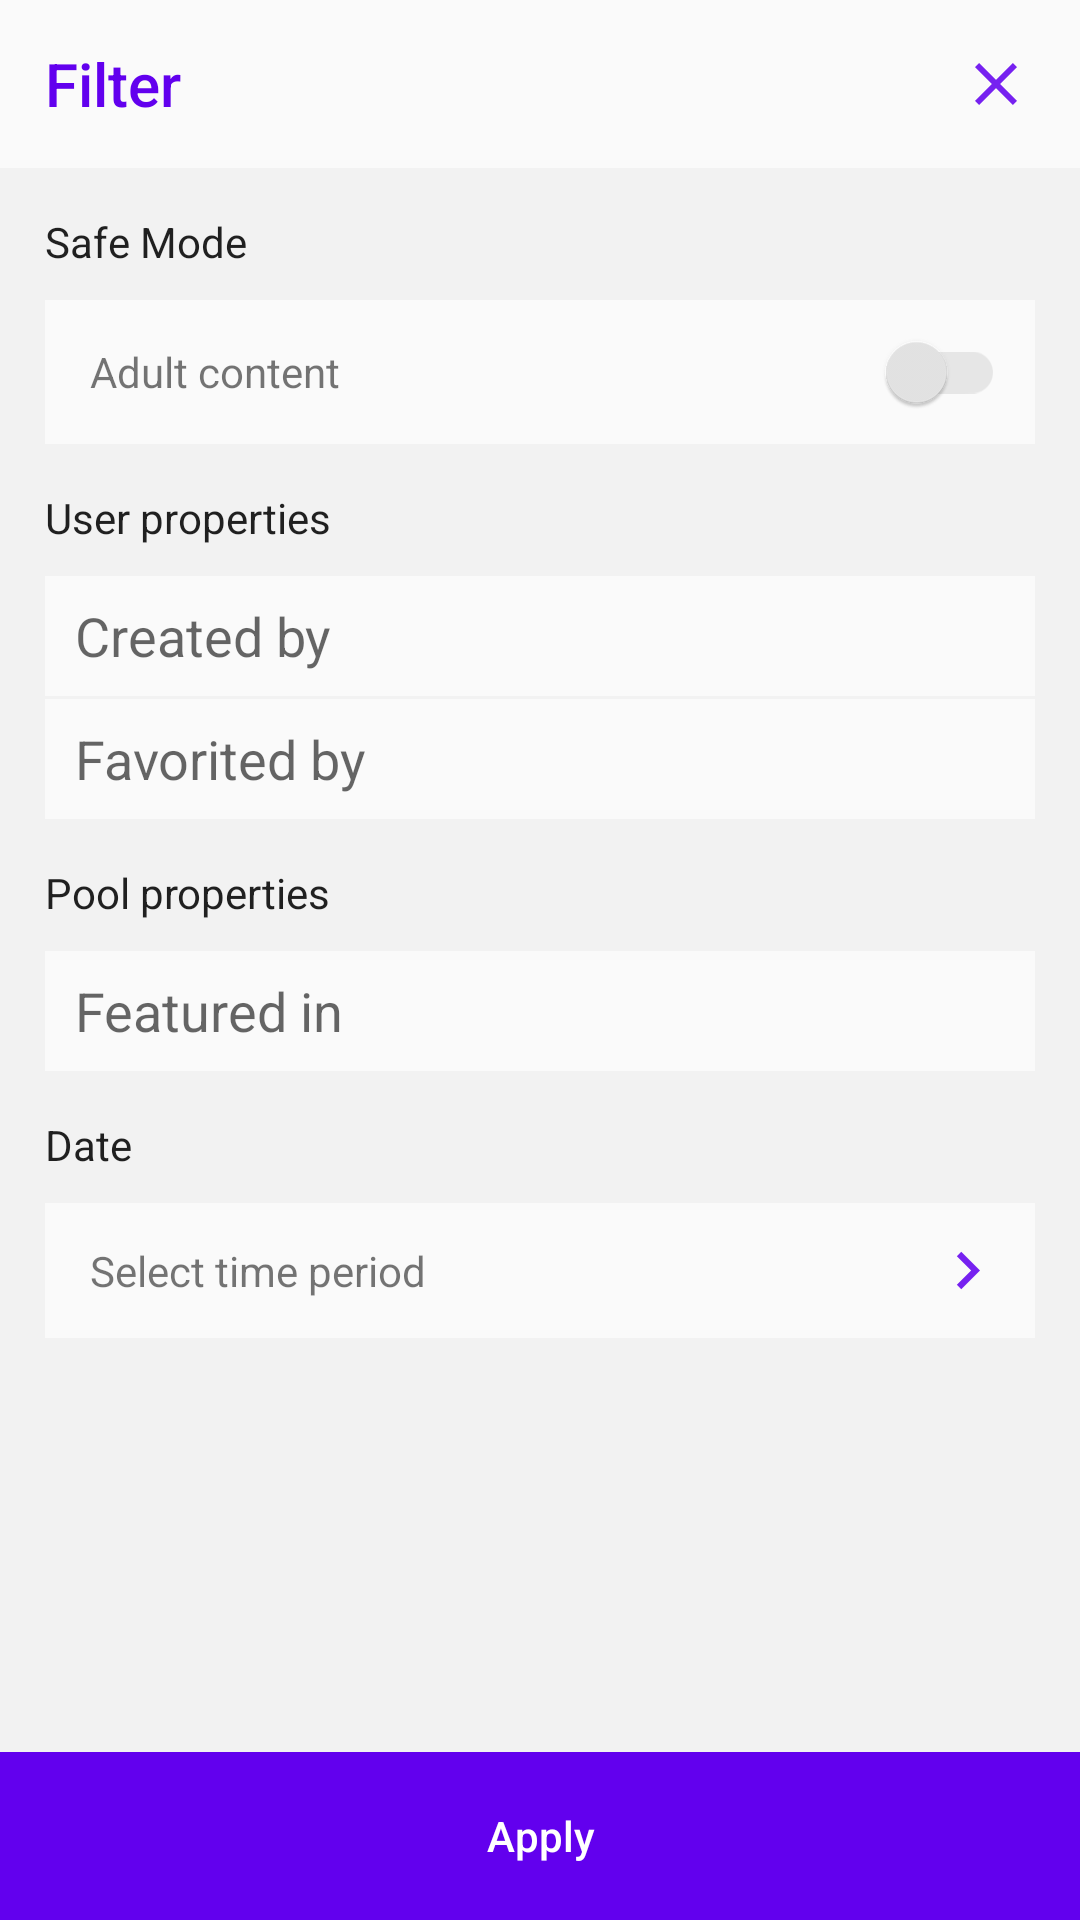

Icon bounding boxes for this 1080*1920 phone screenshot, format (x1, y1, x2, y2):
arrow right: (957, 1252, 980, 1289)
close: (975, 63, 1017, 105)
